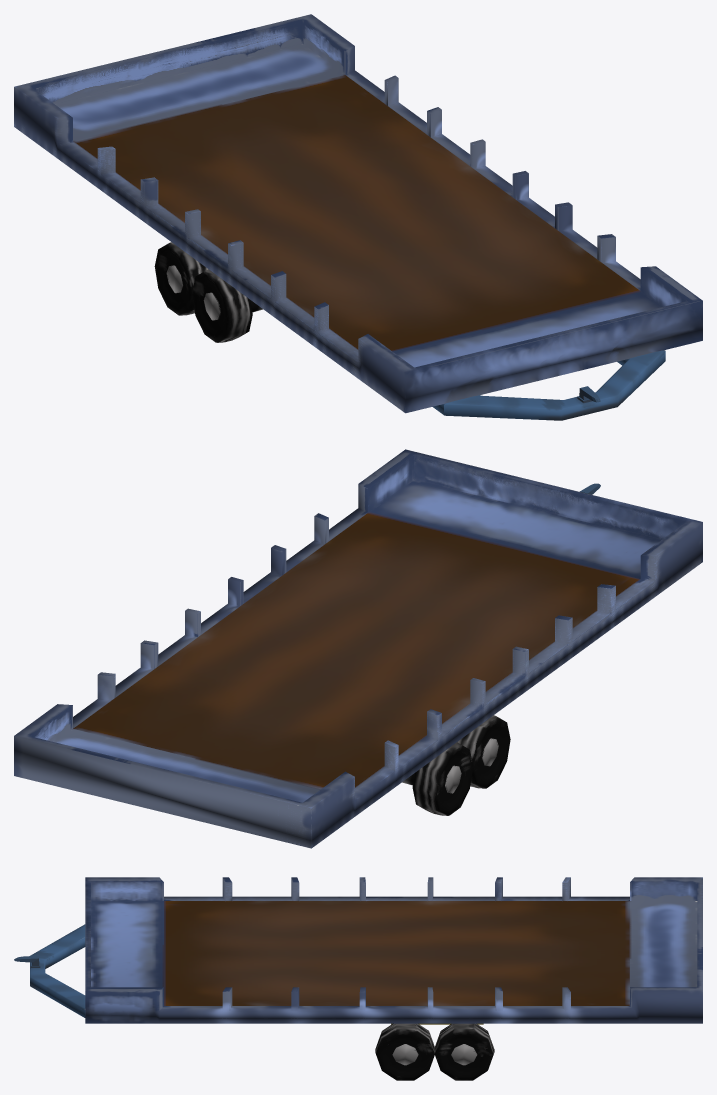
The model's file is Remolque.fbx.
3 views of the same model, one above another, from view 1: azimuth 30°, elevation 25°; view 2: azimuth 150°, elevation 25°; view 3: azimuth 270°, elevation 25° (orthographic). The views are drawn at different scales.
Parts seen in each view (by area): view 1: Cube.005; view 2: Cube.005; view 3: Cube.005.
Boxes of the visible parts, x1,y1,x2,y2 form: Cube.005: (14,14,702,420); Cube.005: (14,449,702,848); Cube.005: (14,877,702,1080).
Size of the model in its own units: 400 by 151 by 1016.
1 material, 1 textured.
